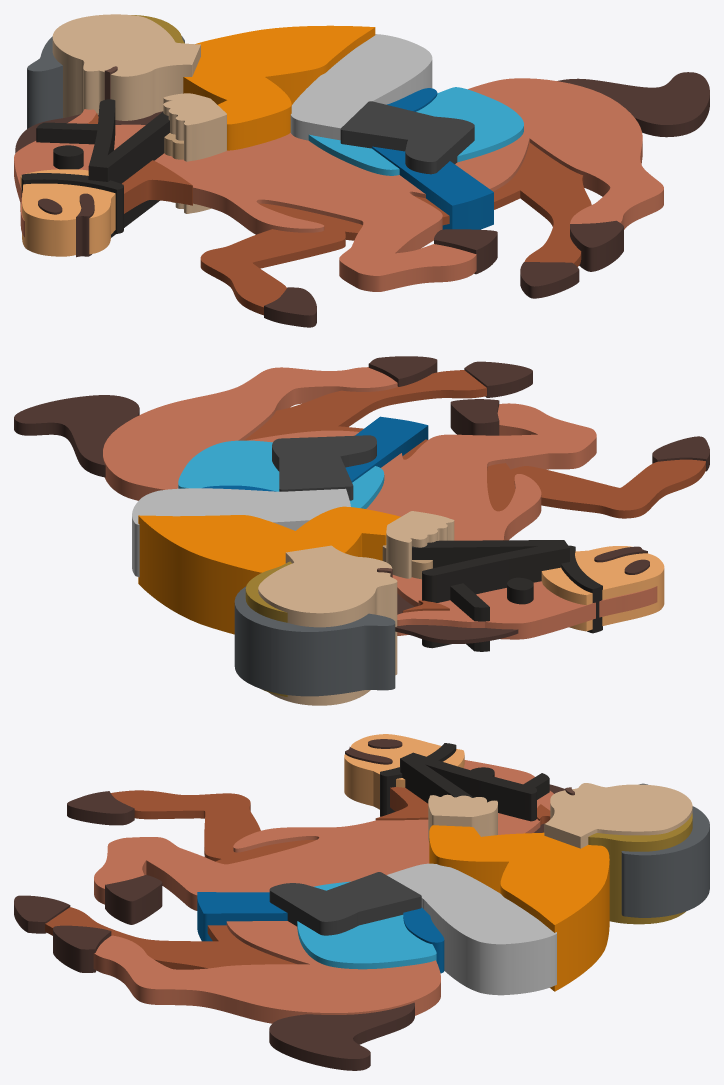
File: emoji_u1f3c7_1f3fc.glb
The picture shows the model from 3 angles, top to bottom: view 1: azimuth 30°, elevation 25°; view 2: azimuth 150°, elevation 25°; view 3: azimuth 270°, elevation 25°; orthographic projection. The views are drawn at different scales.
Visible parts, largest first — view 1: emoji_u1f3c7_1f3fc; view 2: emoji_u1f3c7_1f3fc; view 3: emoji_u1f3c7_1f3fc.
Part boxes in pixels (x1=…): emoji_u1f3c7_1f3fc: x1=14, y1=14, x2=709, y2=327; emoji_u1f3c7_1f3fc: x1=14, y1=356, x2=709, y2=705; emoji_u1f3c7_1f3fc: x1=14, y1=734, x2=709, y2=1070.
Bounding box in the file's own units: 0.0343 × 0.0048 × 0.0322.
